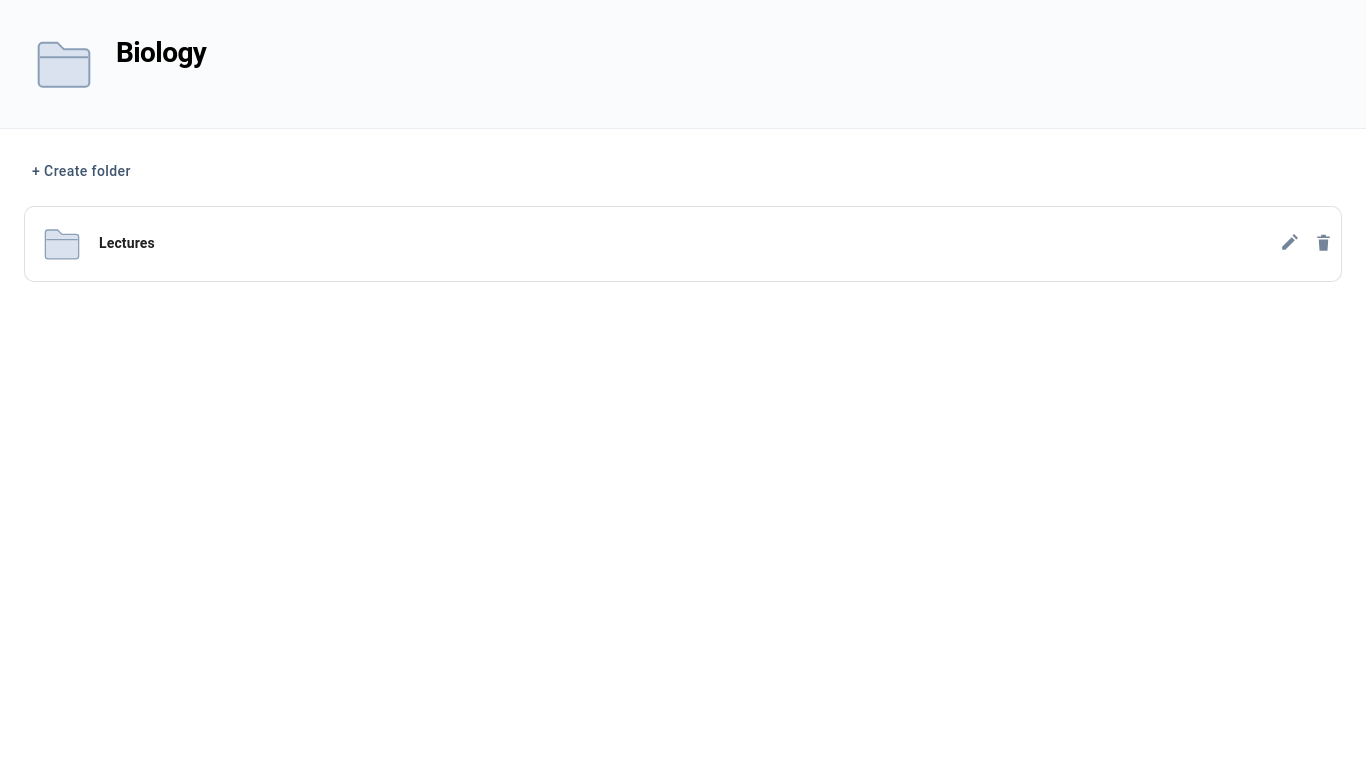
Test: renames without exposing or overwriting backend classification
Click the button named "Edit folder Lectures": point(1288, 244) [1271,226,1306,261]
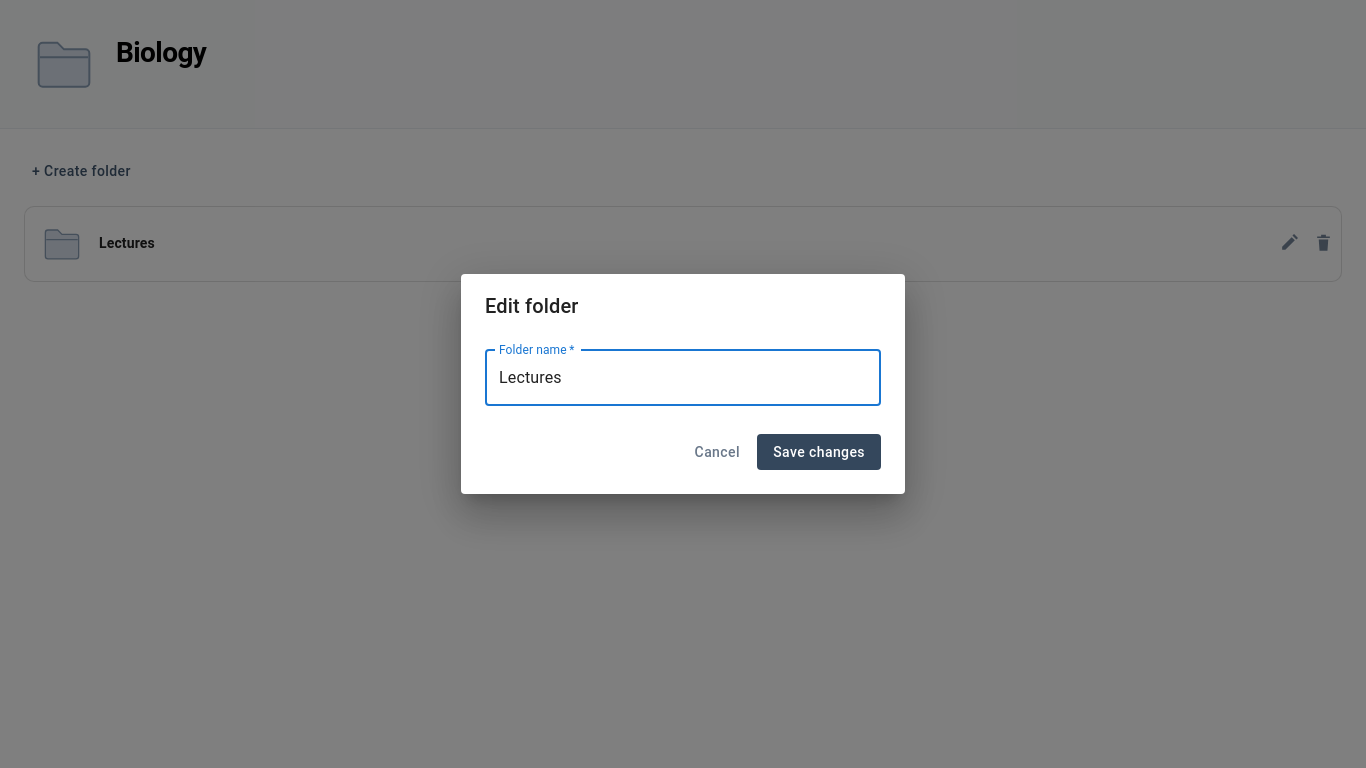
Replace the text in the field labelled "Folder name *" with "Class Notes": point(683, 378) [485,350,881,406]
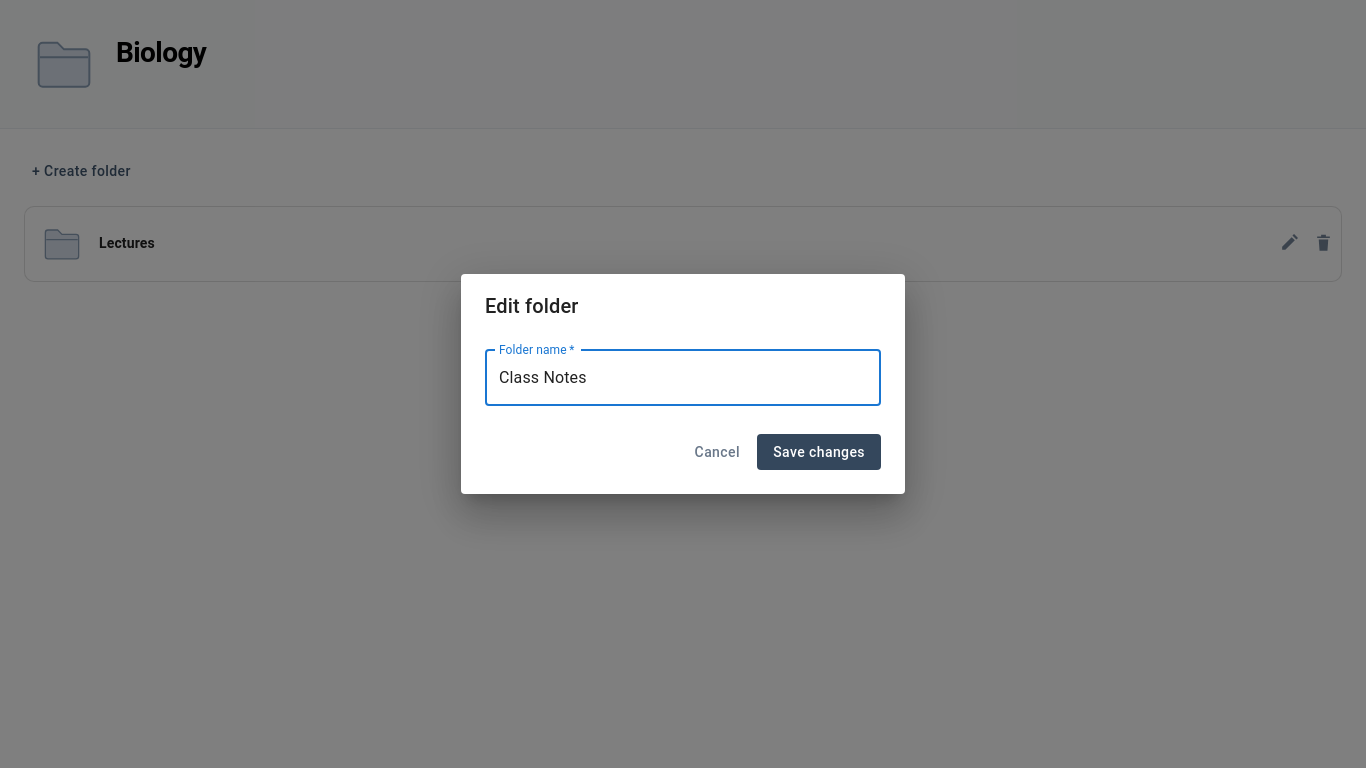
Click the button "Save changes": point(819, 452) [757,434,881,470]
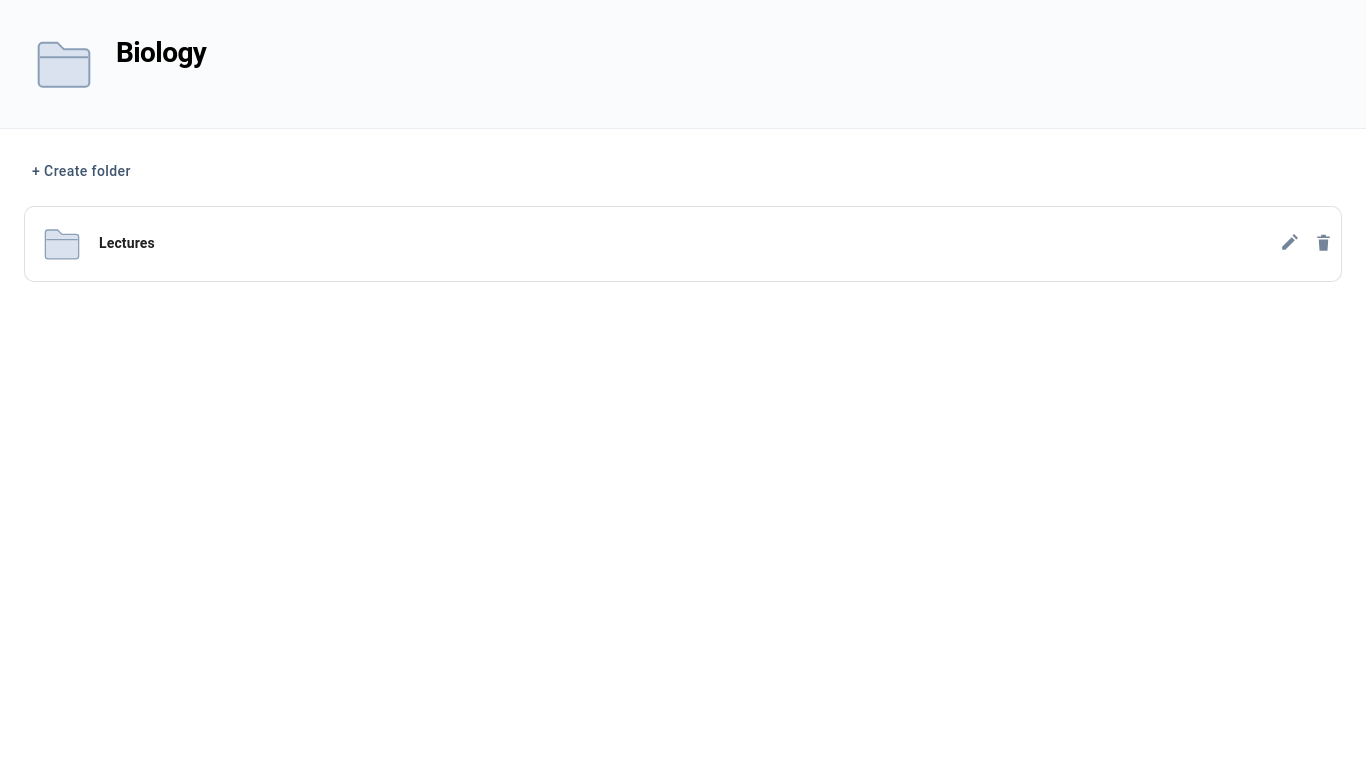
Now the dialog is gone
